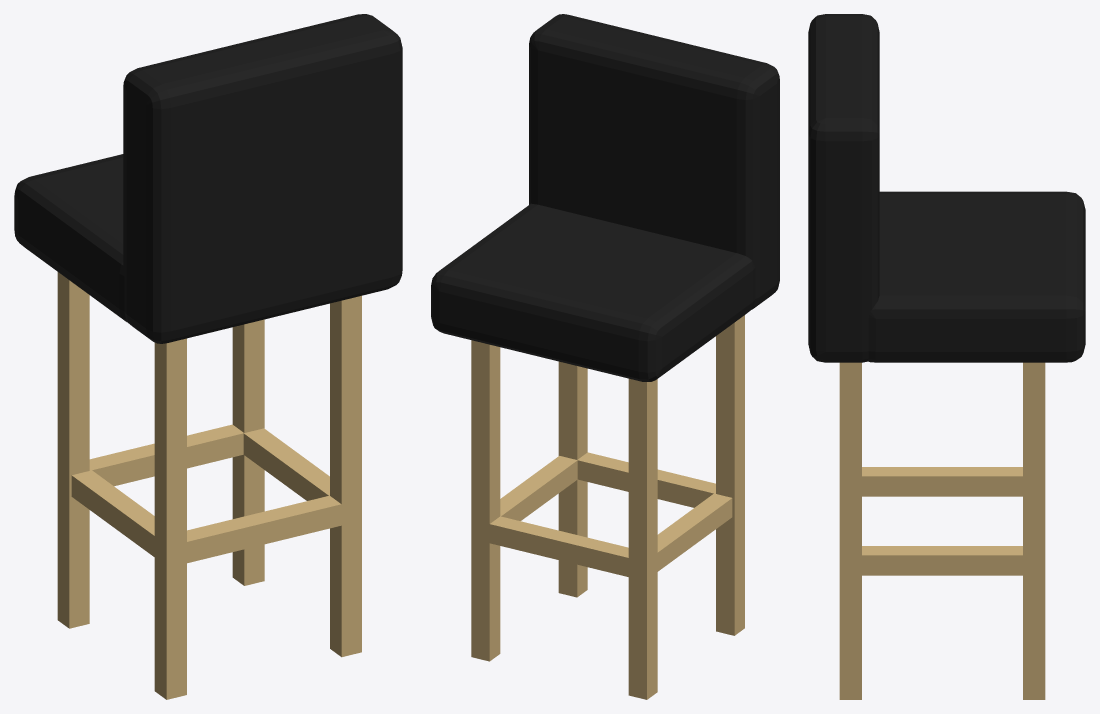
The model's file is Barstool.glb.
The picture shows the model from 3 angles, left to right: view 1: azimuth 30°, elevation 25°; view 2: azimuth 150°, elevation 25°; view 3: azimuth 270°, elevation 25°; orthographic projection. The views are drawn at different scales.
Visible parts, largest first — view 1: Box006, Box005, Box004, Box001, Box003, Box002, Box008, Box007, Box009, Box010; view 2: Box006, Box005, Box003, Box002, Box004, Box001, Box007, Box008, Box009, Box010; view 3: Box005, Box006, Box001, Box002, Box009, Box010.
Boxes of the visible parts, bbox=[...] form: Box006: bbox=[123, 14, 402, 343]; Box005: bbox=[14, 154, 127, 322]; Box004: bbox=[154, 338, 186, 699]; Box001: bbox=[330, 295, 361, 657]; Box003: bbox=[57, 272, 89, 628]; Box002: bbox=[232, 319, 264, 585]; Box008: bbox=[187, 495, 341, 563]; Box007: bbox=[89, 424, 243, 486]; Box009: bbox=[71, 469, 154, 556]; Box010: bbox=[243, 428, 329, 500]; Box006: bbox=[529, 14, 779, 309]; Box005: bbox=[431, 203, 755, 381]; Box003: bbox=[628, 378, 657, 699]; Box002: bbox=[471, 340, 500, 661]; Box004: bbox=[716, 315, 744, 635]; Box001: bbox=[558, 361, 587, 597]; Box007: bbox=[489, 516, 643, 580]; Box008: bbox=[577, 452, 715, 507]; Box009: bbox=[657, 492, 732, 571]; Box010: bbox=[500, 454, 585, 520]; Box005: bbox=[867, 191, 1085, 362]; Box006: bbox=[808, 14, 879, 362]; Box001: bbox=[839, 362, 861, 699]; Box002: bbox=[1023, 362, 1045, 699]; Box009: bbox=[862, 467, 1022, 496]; Box010: bbox=[862, 546, 1022, 575].
Size of the model in its own units: 199028 by 468664 by 200138.
